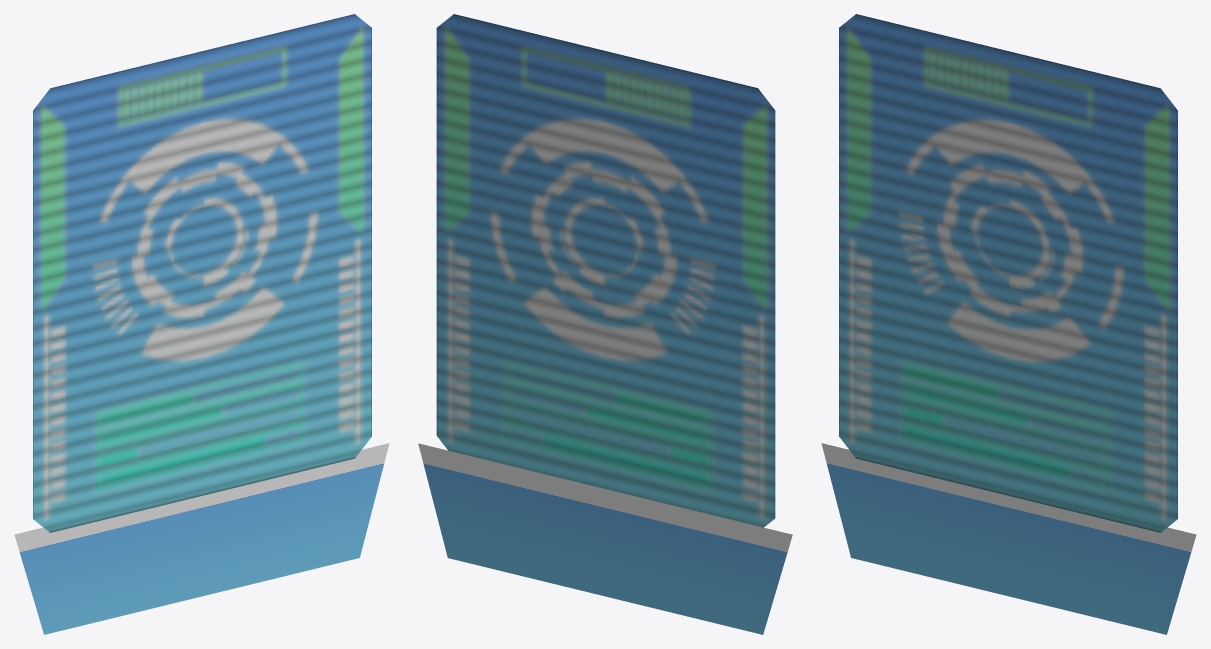
Rendered from Terminal_009_monitor_001.fbx.
3 views of the same model, side by side, from view 1: azimuth 30°, elevation 25°; view 2: azimuth 150°, elevation 25°; view 3: azimuth 330°, elevation 25° (orthographic).
Visible parts, largest first — view 1: Terminal_009_monitor_001; view 2: Terminal_009_monitor_001; view 3: Terminal_009_monitor_001.
Boxes of the visible parts, x1,y1,x2,y2 form: Terminal_009_monitor_001: (14, 14, 389, 634); Terminal_009_monitor_001: (418, 14, 792, 634); Terminal_009_monitor_001: (821, 14, 1196, 634).
Bounding box in the file's own units: 77.04 × 0.1945 × 107.
